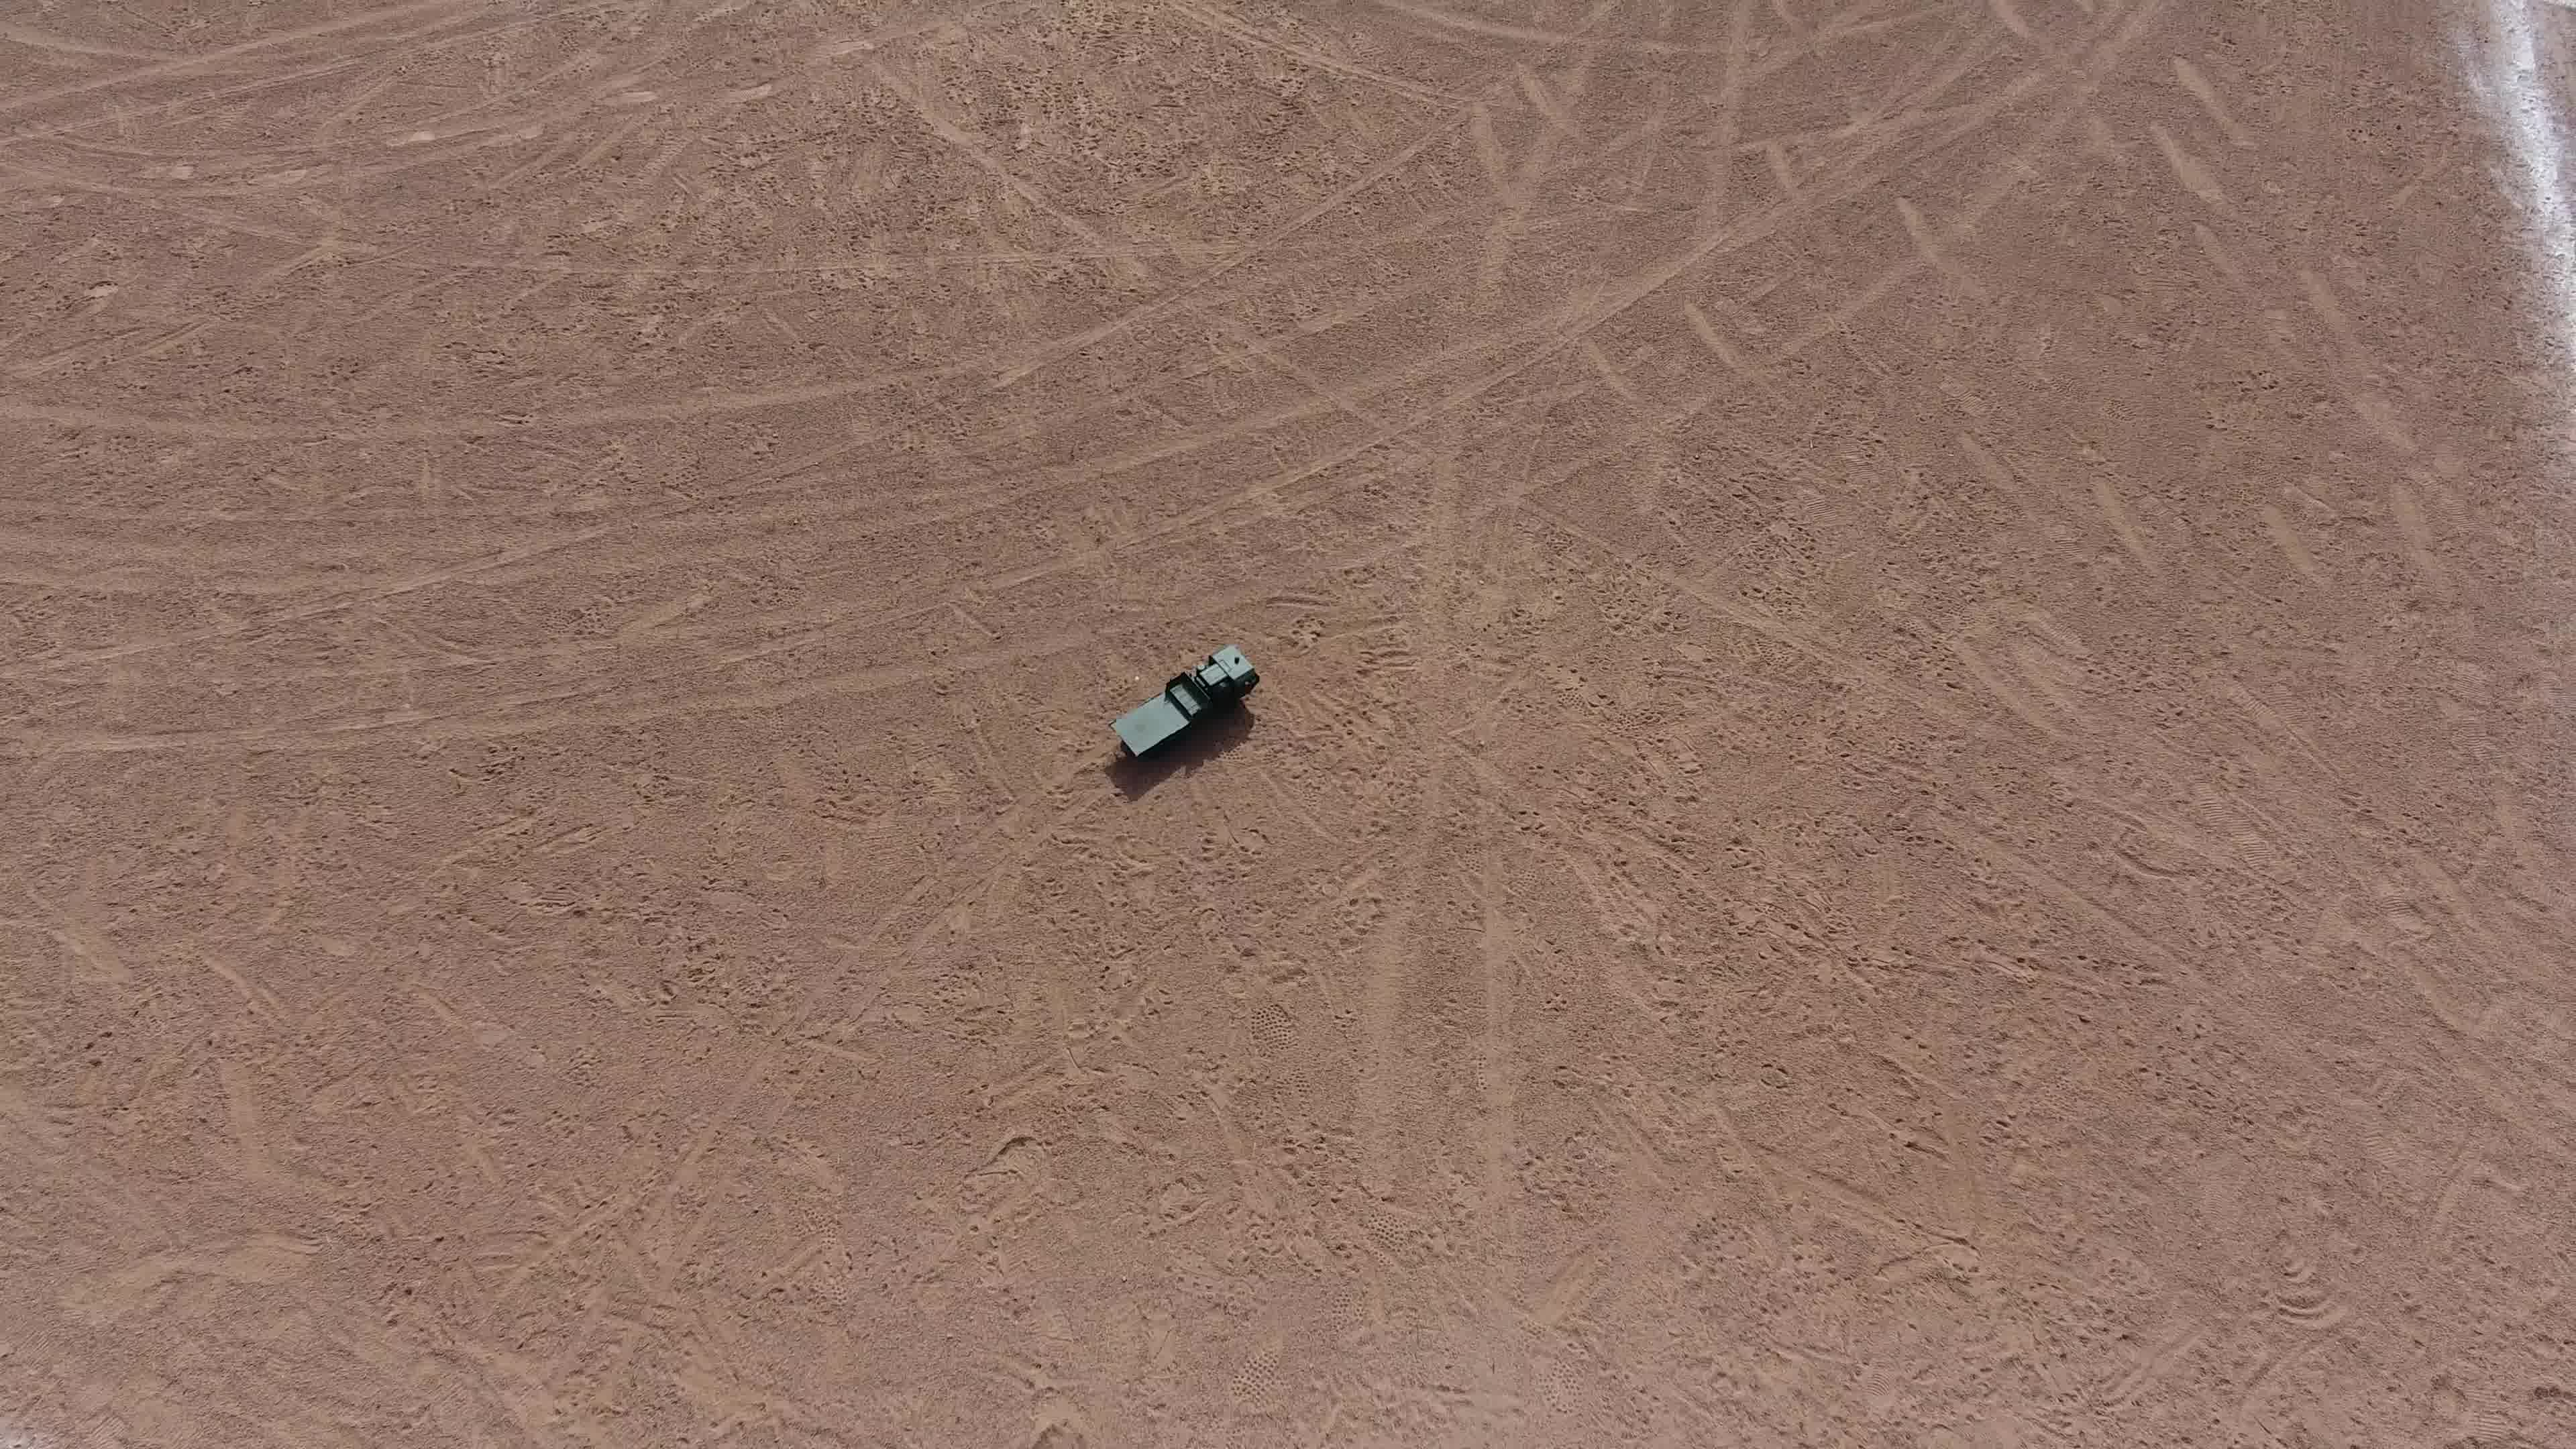transporter9: (1090, 639, 1281, 780)
